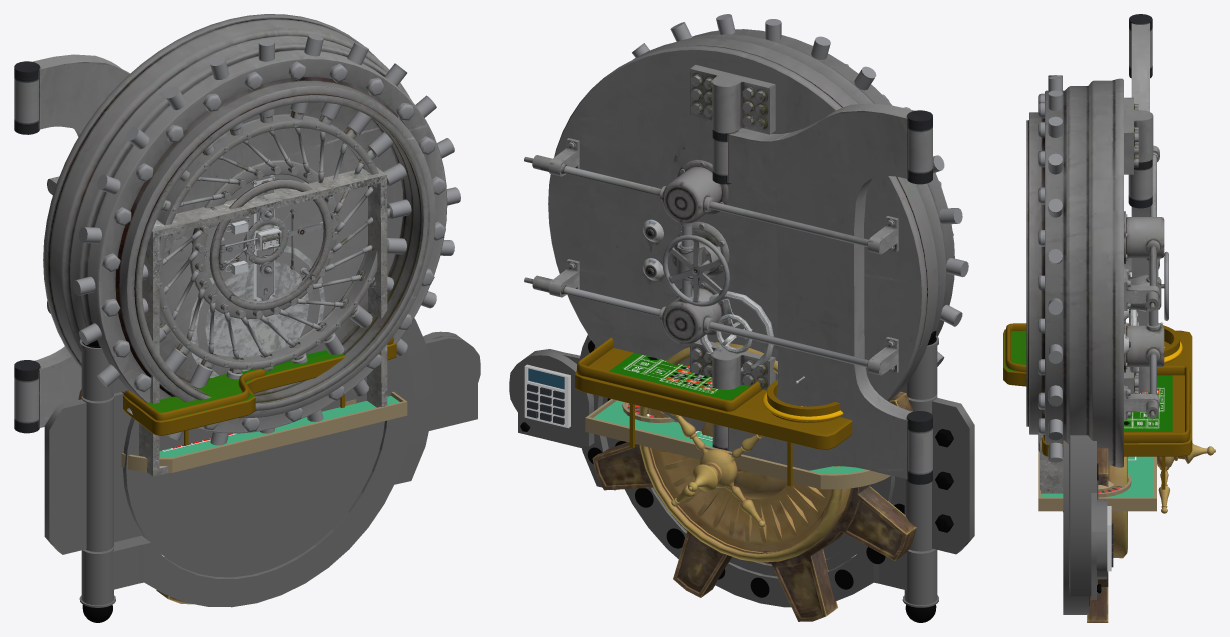
File: casino.glb
The picture shows the model from 3 angles, left to right: view 1: azimuth 30°, elevation 25°; view 2: azimuth 150°, elevation 25°; view 3: azimuth 270°, elevation 25°; orthographic projection. The views are drawn at different scales.
Parts seen in each view (by area): view 1: cs_vault, cs_m0, cs_daily, cs_rl, cs_rl2; view 2: cs_vault, cs_wheel, cs_m0, cs_rl, cs_rl2, cs_daily; view 3: cs_vault, cs_rl, cs_m0, cs_wheel, cs_rl2, cs_daily.
Boxes of the visible parts, box(x1,y1,x2,y2) form: cs_vault: box(14, 14, 460, 445); cs_m0: box(44, 318, 480, 622); cs_daily: box(139, 167, 387, 476); cs_rl: box(122, 336, 396, 445); cs_rl2: box(121, 391, 407, 472); cs_vault: box(524, 14, 968, 484); cs_wheel: box(592, 342, 916, 621); cs_m0: box(509, 331, 974, 622); cs_rl: box(575, 337, 852, 486); cs_rl2: box(585, 399, 890, 489); cs_daily: box(700, 291, 773, 373); cs_vault: box(1026, 14, 1168, 467); cs_rl: box(1003, 322, 1192, 489); cs_m0: box(1063, 435, 1113, 614); cs_wheel: box(1087, 385, 1215, 622); cs_rl2: box(1038, 450, 1156, 511); cs_daily: box(1040, 309, 1138, 493).
Size of the model in its own units: 4.54 by 5.51 by 2.09.
12 materials, 10 textured.
